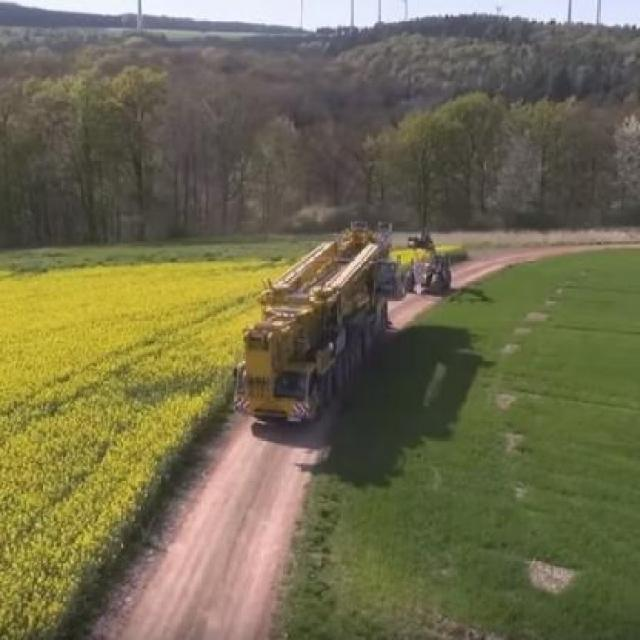Mobile Crane: (236, 231, 387, 426)
